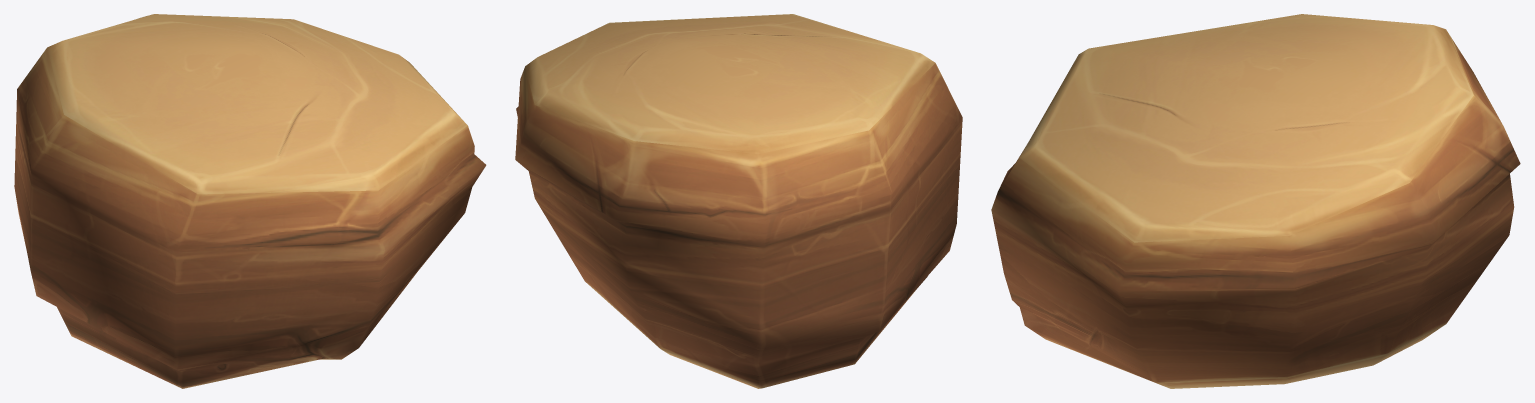
The model's file is DE_Rock_09.fbx.
The picture shows the model from 3 angles, left to right: view 1: azimuth 30°, elevation 25°; view 2: azimuth 150°, elevation 25°; view 3: azimuth 270°, elevation 25°; orthographic projection. The views are drawn at different scales.
Visible parts, largest first — view 1: DE_Rock_09; view 2: DE_Rock_09; view 3: DE_Rock_09.
Part boxes in pixels (x1,y1,x2,y2): DE_Rock_09: (14, 14, 486, 388); DE_Rock_09: (515, 14, 962, 388); DE_Rock_09: (991, 14, 1520, 388).
Bounding box in the file's own units: 3.75 × 2.54 × 4.02.
